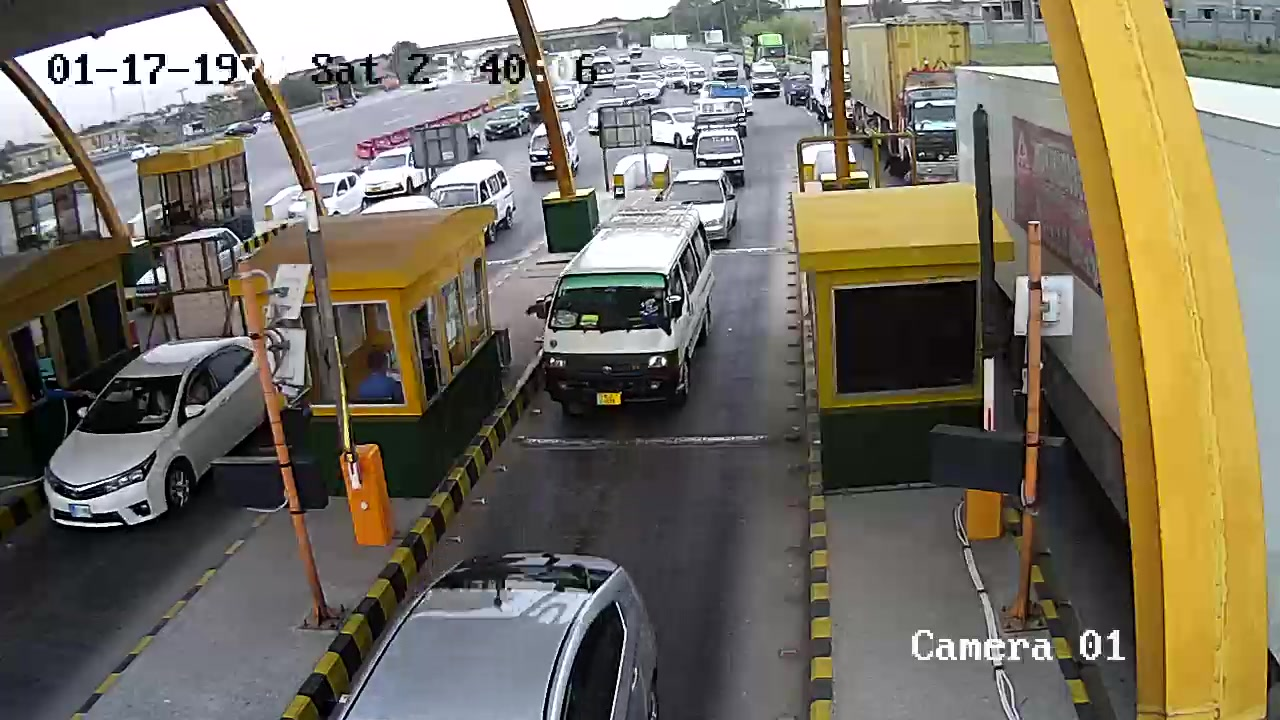F3: (533, 201, 736, 415)
